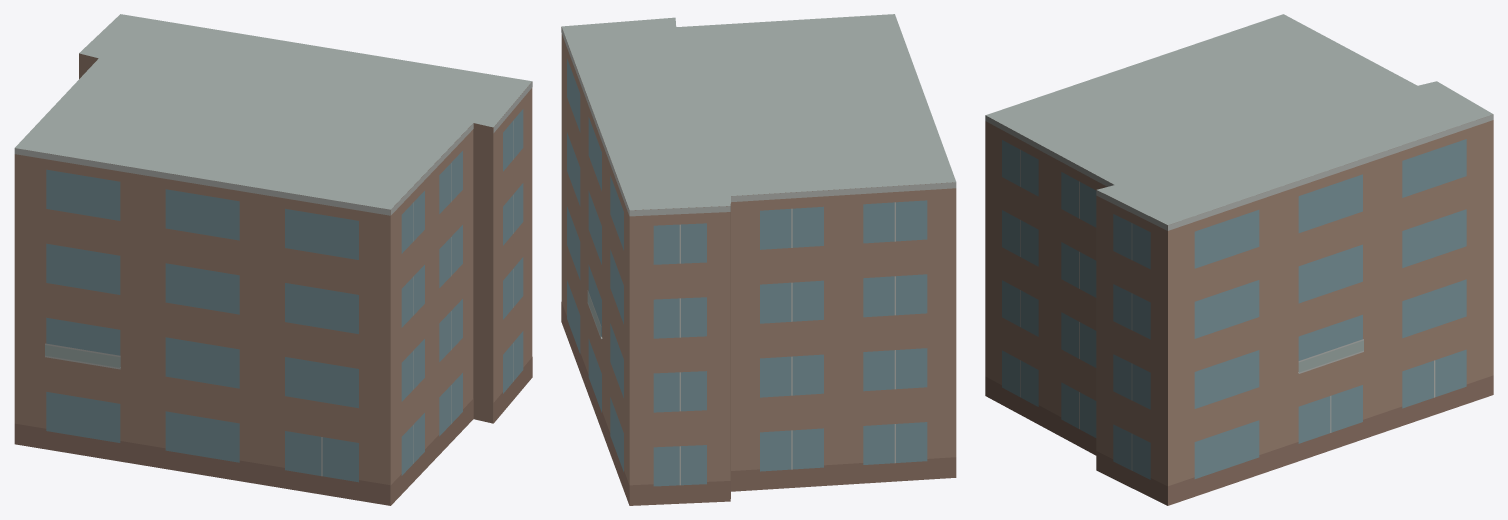
File: survey-upis-32694064.glb
The picture shows the model from 3 angles, left to right: view 1: azimuth 30°, elevation 25°; view 2: azimuth 150°, elevation 25°; view 3: azimuth 270°, elevation 25°; orthographic projection. The views are drawn at different scales.
Parts seen in each view (by area): view 1: survey-upis-32694064.tmp; view 2: survey-upis-32694064.tmp; view 3: survey-upis-32694064.tmp.
Part boxes in pixels (x1,y1,x2,y2): survey-upis-32694064.tmp: [14, 14, 532, 505]; survey-upis-32694064.tmp: [561, 14, 956, 505]; survey-upis-32694064.tmp: [985, 14, 1493, 505].
Size of the model in its own units: 19.21 by 11.9 by 19.53.
